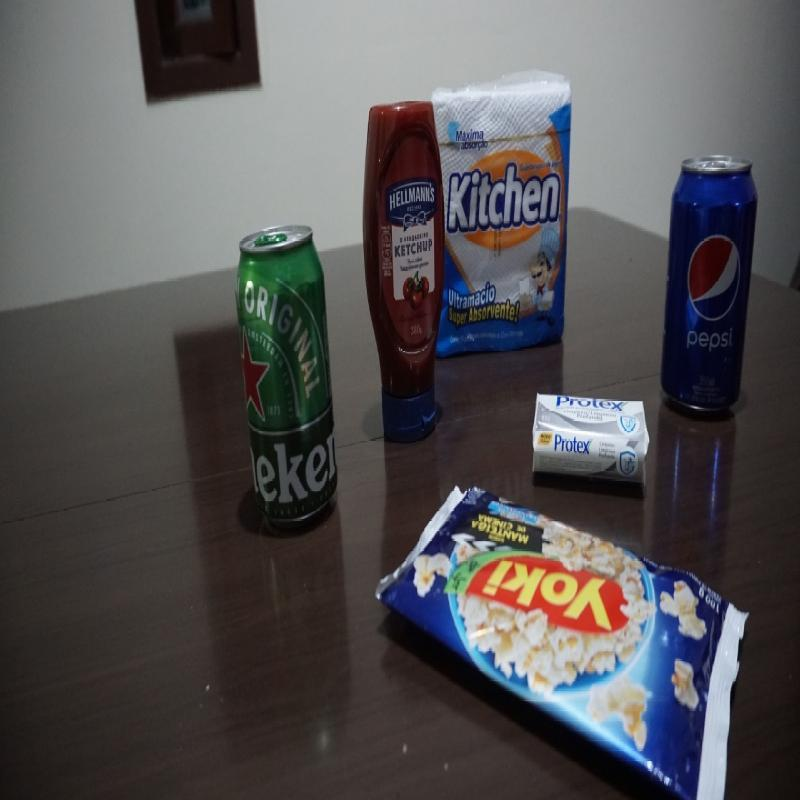Beer can: (232, 218, 340, 540)
Ketchup: (359, 100, 446, 449)
Napkin: (432, 68, 577, 362)
Popcorn: (376, 483, 755, 798)
Soap: (529, 388, 651, 486)
Soda can: (657, 152, 762, 420)
